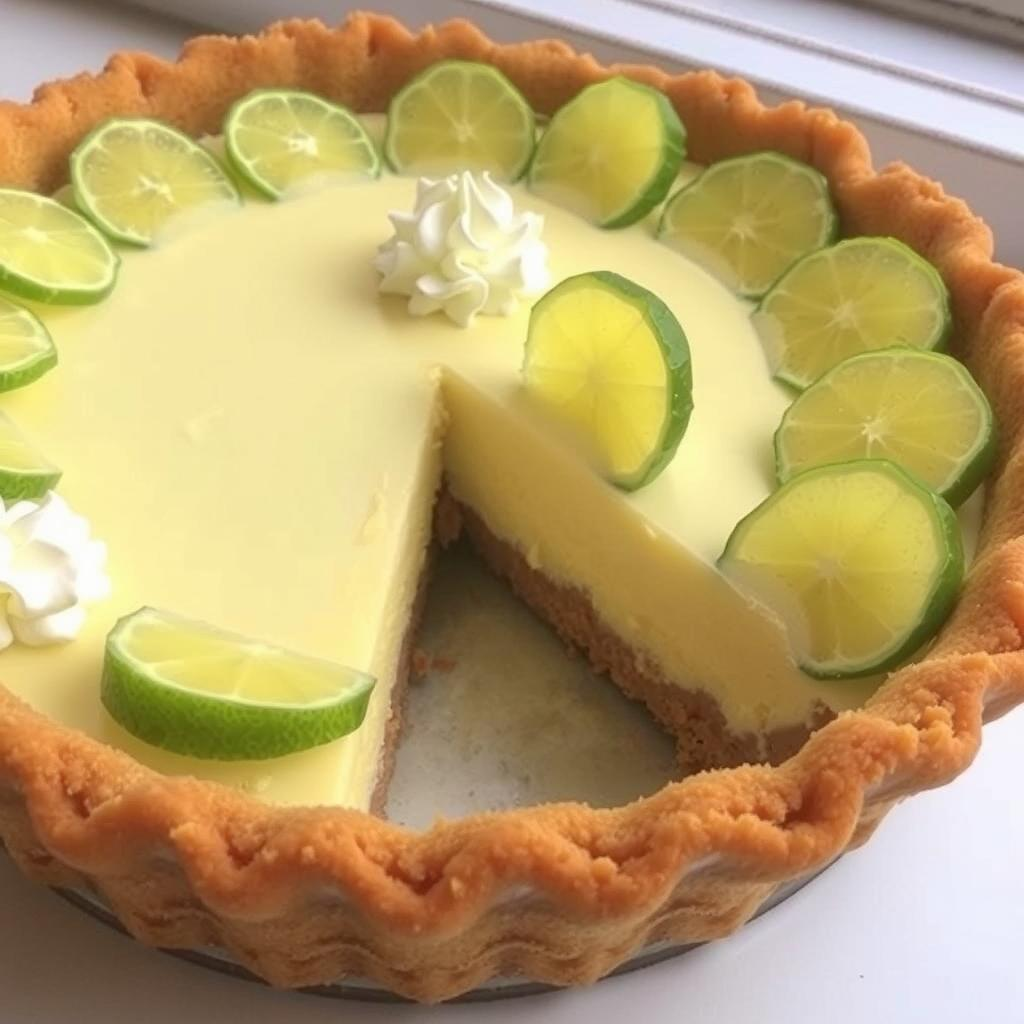pie: (0, 10, 1024, 1014)
